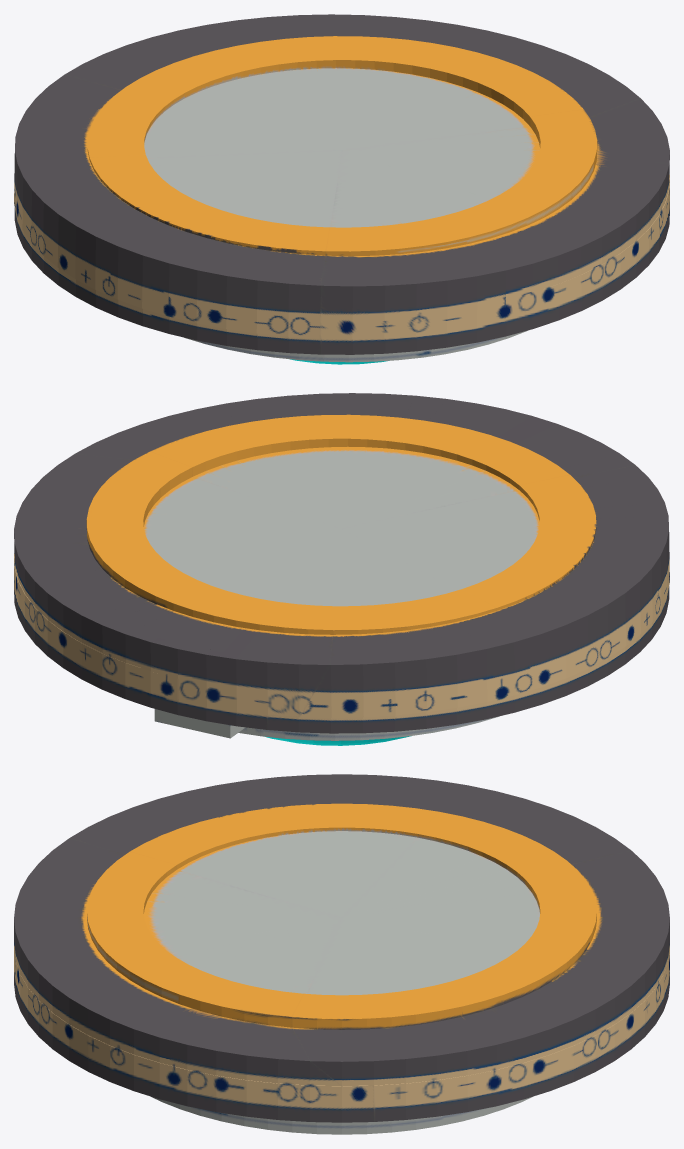
The model's file is Platfor2.fbx.
3 renders of one model, top to bottom at view 1: azimuth 30°, elevation 25°; view 2: azimuth 150°, elevation 25°; view 3: azimuth 270°, elevation 25°, orthographic.
Parts seen in each view (by area): view 1: node_id3; view 2: node_id3; view 3: node_id3.
Boxes of the visible parts, x1,y1,x2,y2 form: node_id3: (14, 14, 669, 364); node_id3: (14, 393, 669, 745); node_id3: (14, 774, 669, 1134).
Bounding box in the file's own units: 0.512 × 0.1647 × 0.5113.
Materials: 1 (1 with a texture image).
